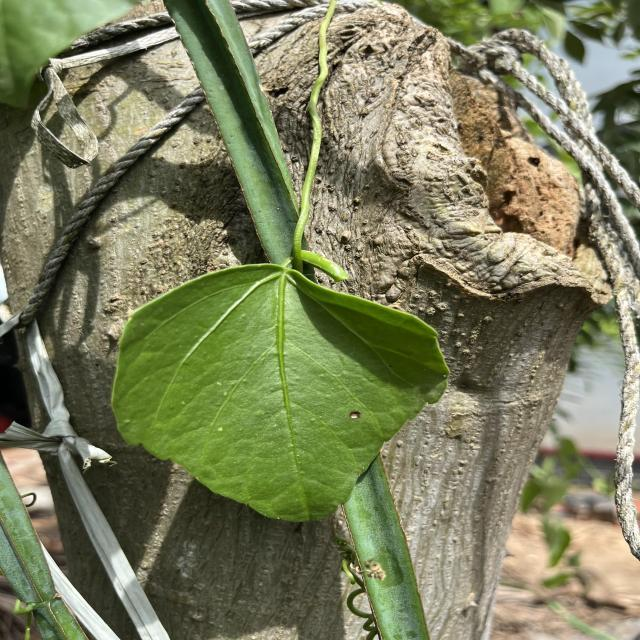Cissus quadrangularis: (109, 260, 452, 524)
